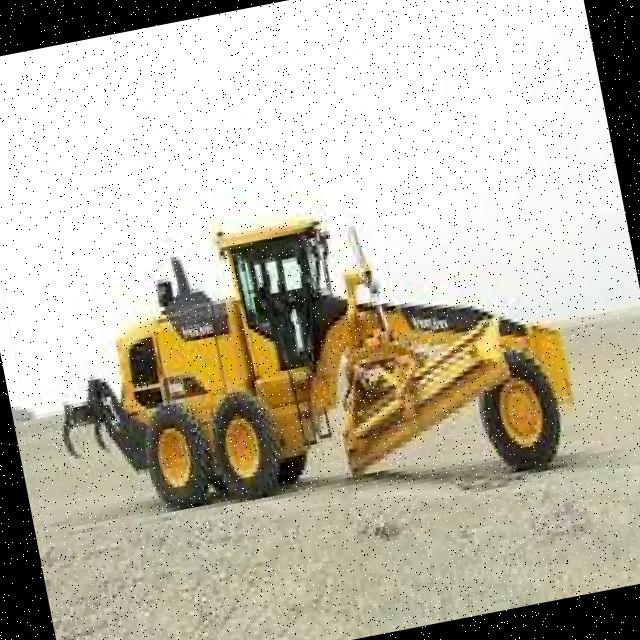Grader: (28, 144, 604, 598)
